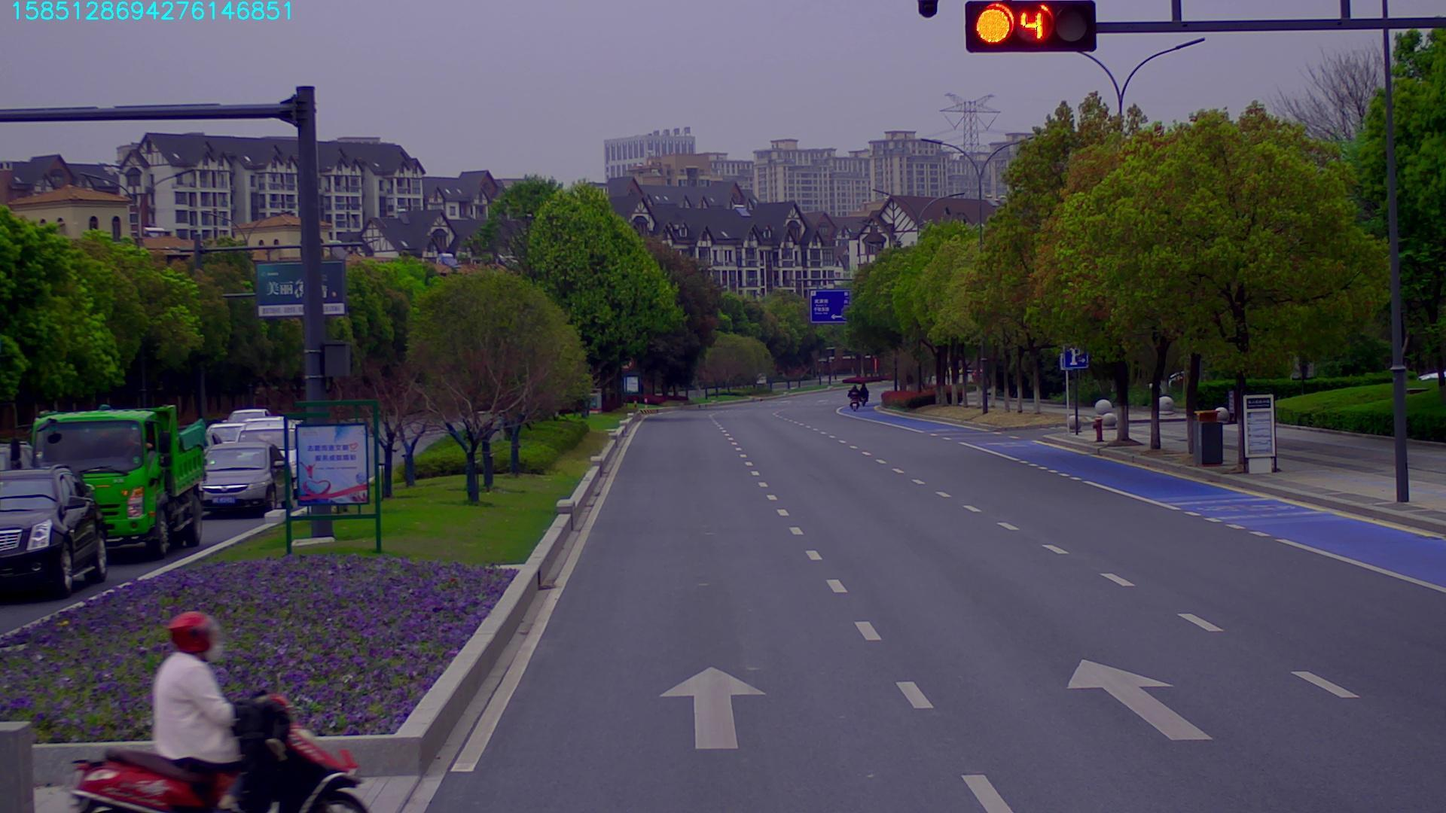red: (962, 8, 1097, 56)
